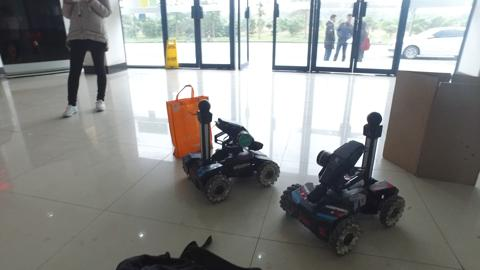chariot: (283, 110, 406, 256), (189, 102, 279, 202)
